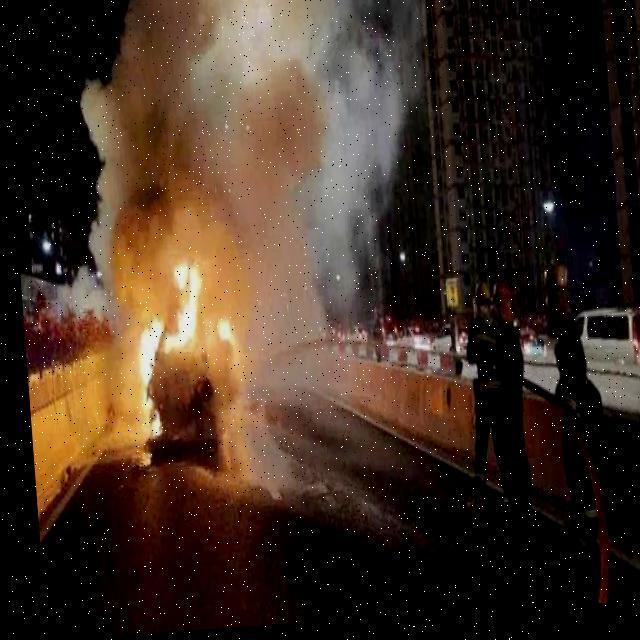Fire: (128, 260, 242, 470)
